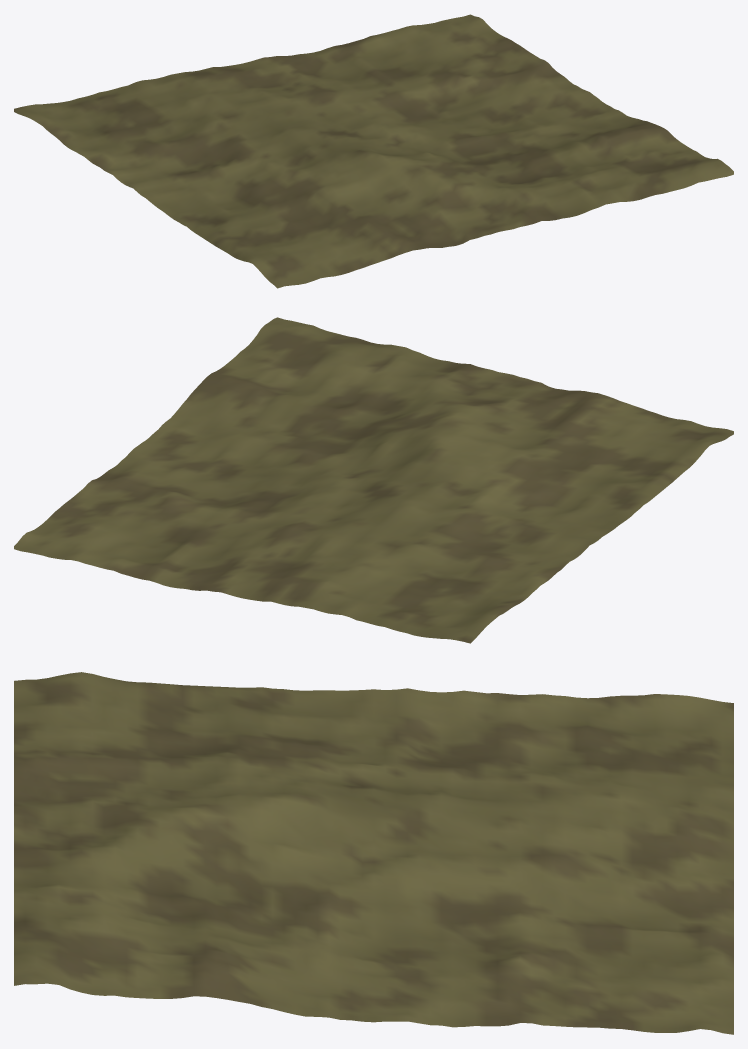
Rendered from land_f_04_08.glb.
3 renders of one model, top to bottom at view 1: azimuth 30°, elevation 25°; view 2: azimuth 150°, elevation 25°; view 3: azimuth 270°, elevation 25°, orthographic. The views are drawn at different scales.
Parts seen in each view (by area): view 1: land_f_04_08; view 2: land_f_04_08; view 3: land_f_04_08.
Part boxes in pixels (bbox=[...]): land_f_04_08: bbox=[14, 14, 733, 288]; land_f_04_08: bbox=[14, 317, 733, 643]; land_f_04_08: bbox=[14, 672, 733, 1034].
Bounding box in the file's own units: 3840 × 385 × 3840.
